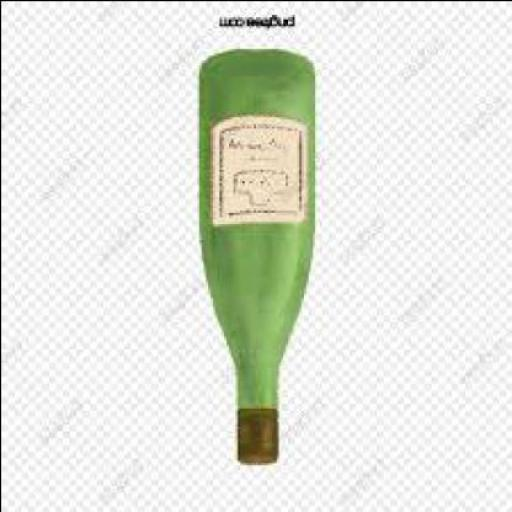glass: (200, 50, 317, 464)
